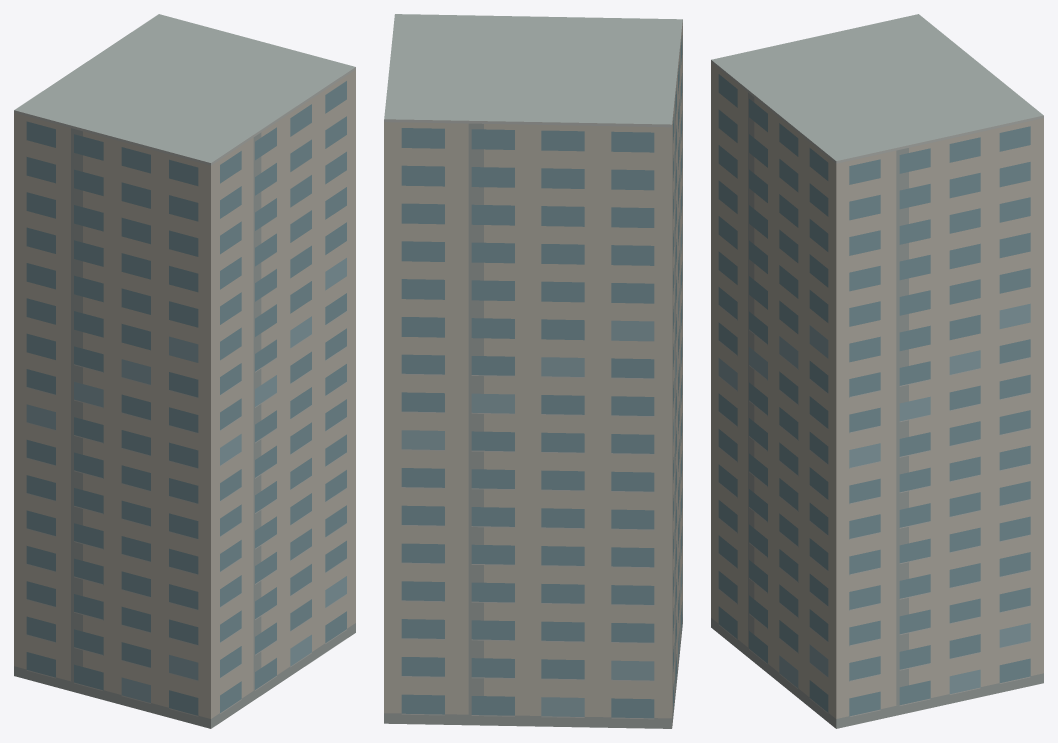
File: residential-fd6a041e-92f8-476f-bf5b-77a4f806e055.glb
The picture shows the model from 3 angles, left to right: view 1: azimuth 30°, elevation 25°; view 2: azimuth 150°, elevation 25°; view 3: azimuth 270°, elevation 25°; orthographic projection. The views are drawn at different scales.
Parts seen in each view (by area): view 1: residential-fd6a041e-92f8-476f-bf5b-77a4f806e055.tmp; view 2: residential-fd6a041e-92f8-476f-bf5b-77a4f806e055.tmp; view 3: residential-fd6a041e-92f8-476f-bf5b-77a4f806e055.tmp.
Boxes of the visible parts, left/top/right/bottom form: residential-fd6a041e-92f8-476f-bf5b-77a4f806e055.tmp: left=14, top=14, right=355, bottom=728; residential-fd6a041e-92f8-476f-bf5b-77a4f806e055.tmp: left=384, top=14, right=682, bottom=728; residential-fd6a041e-92f8-476f-bf5b-77a4f806e055.tmp: left=711, top=14, right=1043, bottom=728.
Bounding box in the file's own units: 29.48 × 53 × 28.16.
